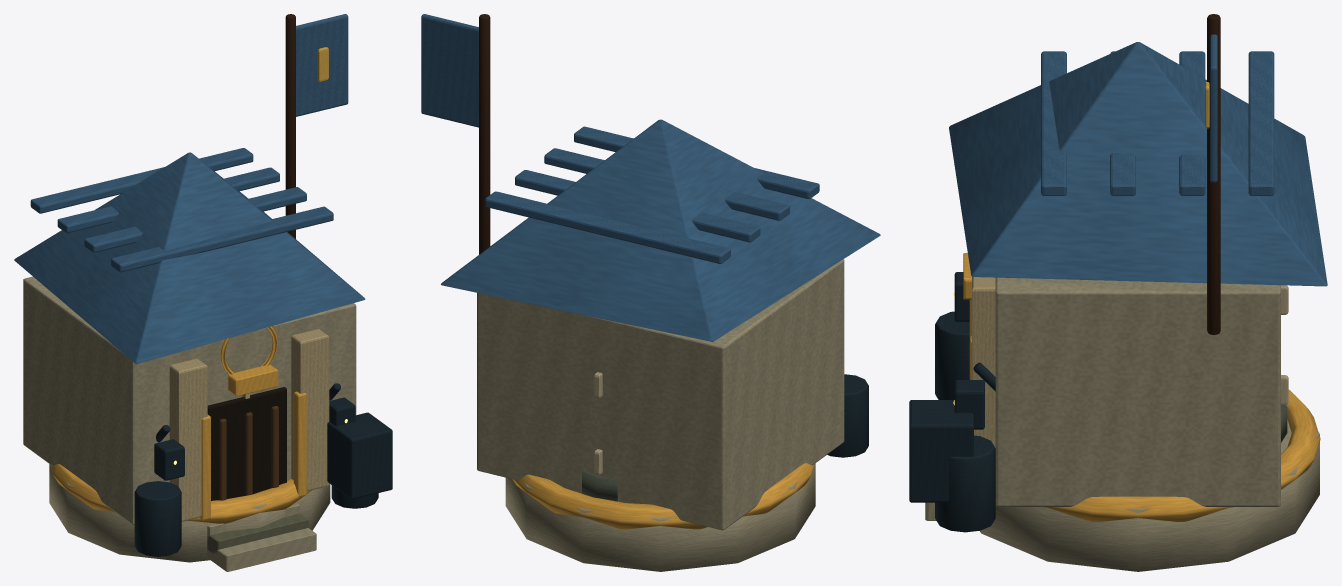
Rendered from tower-barracks-1-base.glb.
3 views of the same model, side by side, from view 1: azimuth 30°, elevation 25°; view 2: azimuth 150°, elevation 25°; view 3: azimuth 270°, elevation 25° (orthographic). The views are drawn at different scales.
Visible parts, largest first — view 1: Foundation, barracks-L1-base; view 2: Foundation, barracks-L1-base; view 3: Foundation, barracks-L1-base.
Part boxes in pixels (x1,y1,x2,y2): Foundation: (14, 14, 392, 571); barracks-L1-base: (49, 464, 330, 562); Foundation: (421, 14, 880, 530); barracks-L1-base: (505, 463, 815, 571); Foundation: (909, 14, 1327, 532); barracks-L1-base: (980, 405, 1319, 571).
Size of the model in its own units: 2.17 by 2.87 by 1.94.
16 materials, 16 textured.
